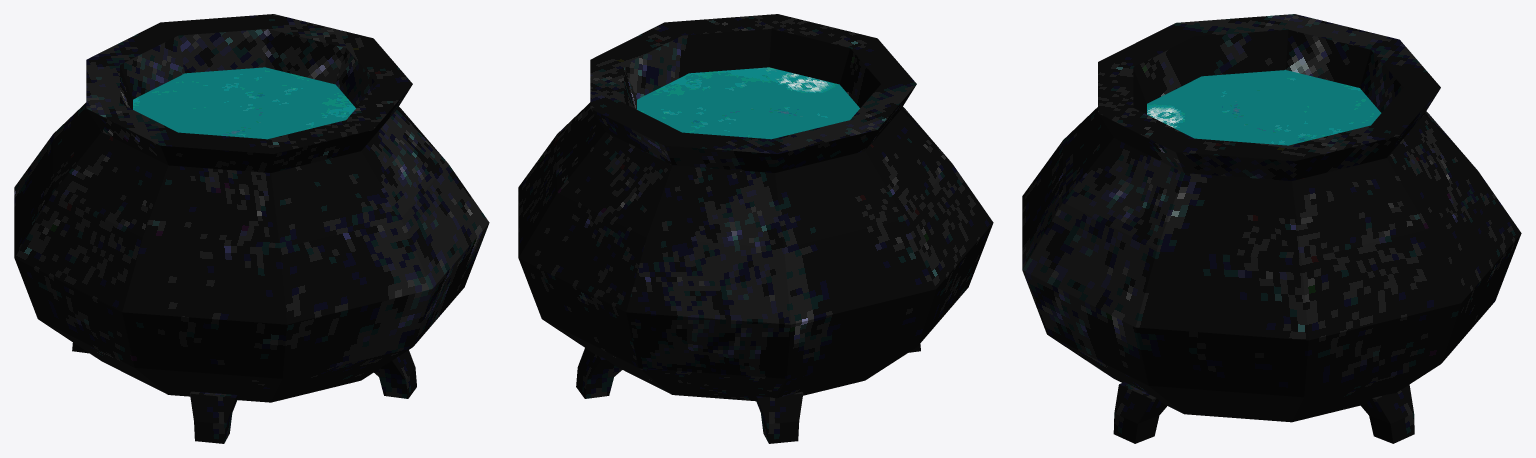
Rendered from green_cauldron.glb.
3 renders of one model, left to right at view 1: azimuth 30°, elevation 25°; view 2: azimuth 150°, elevation 25°; view 3: azimuth 270°, elevation 25°, orthographic. The views are drawn at different scales.
Parts seen in each view (by area): view 1: Cylinder; view 2: Cylinder; view 3: Cylinder.
Part boxes in pixels (bbox=[...]): Cylinder: bbox=[14, 14, 489, 443]; Cylinder: bbox=[518, 14, 993, 443]; Cylinder: bbox=[1022, 14, 1521, 443].
Bounding box in the file's own units: 3.17 × 2.07 × 3.12.
1 material, 1 textured.
